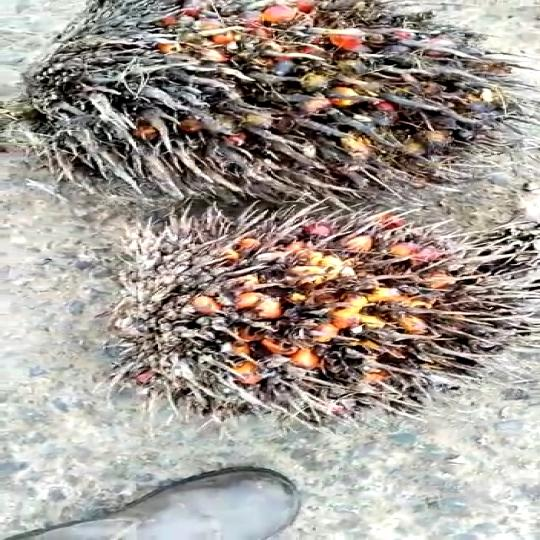terlalu masak: (108, 191, 528, 438), (14, 0, 501, 199)
